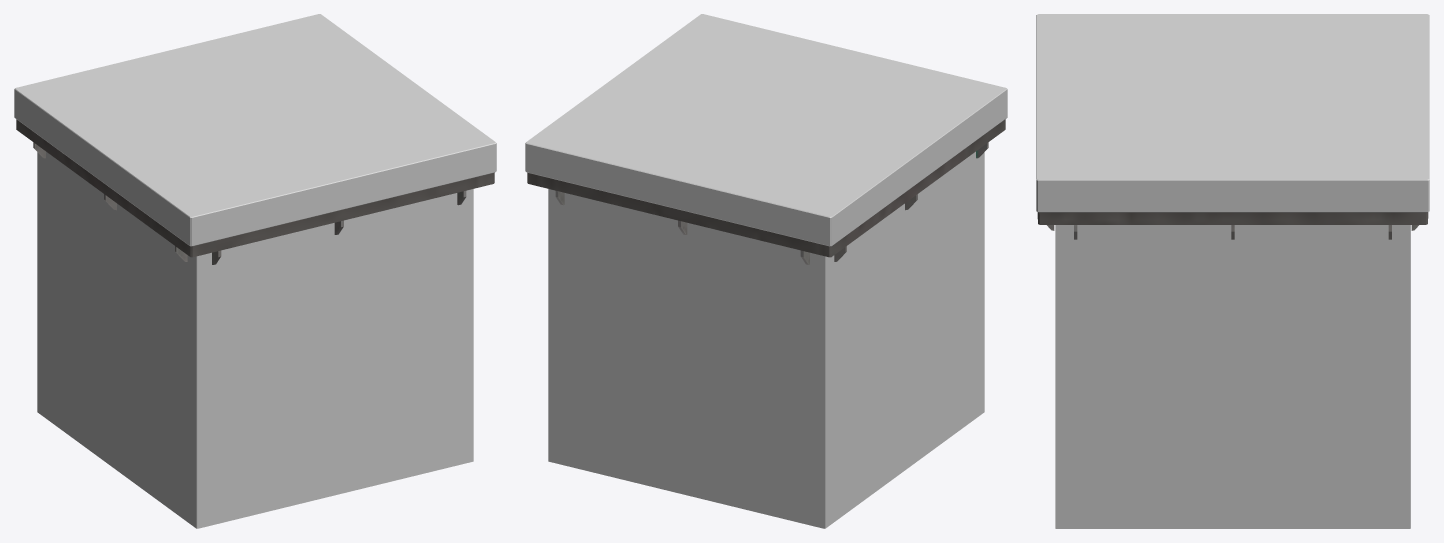
File: SM_Floor_Glass_10fcb3.glb
3 views of the same model, side by side, from view 1: azimuth 30°, elevation 25°; view 2: azimuth 150°, elevation 25°; view 3: azimuth 270°, elevation 25° (orthographic). The views are drawn at different scales.
Size of the model in its own units: 4 by 4.01 by 4.
Materials: 2 (1 with a texture image).
